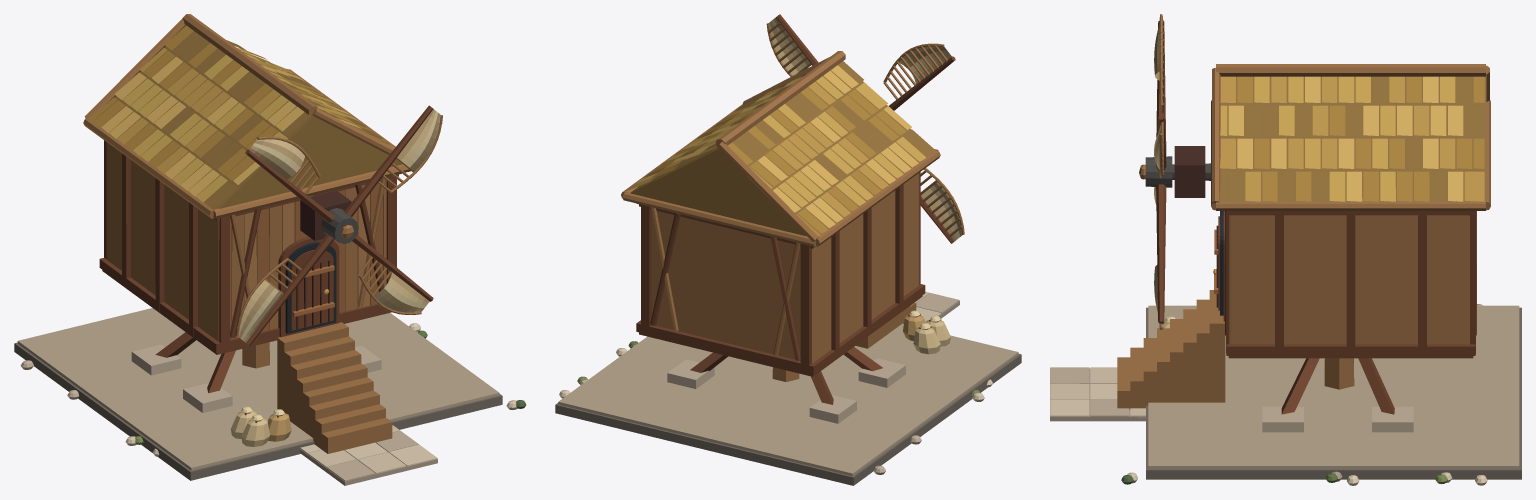
The model's file is windmill-nivel-1.glb.
The picture shows the model from 3 angles, left to right: view 1: azimuth 30°, elevation 25°; view 2: azimuth 150°, elevation 25°; view 3: azimuth 270°, elevation 25°; orthographic projection. The views are drawn at different scales.
Visible parts, largest first — view 1: Moinho de vento 01 #b4a38a, Moinho de vento 01 #9f7145, Moinho de vento 01 #70432c, Moinho de vento 01 #92703a, Moinho de vento 01 #a57547, Moinho de vento 01 #ab843d, Moinho de vento 01 #d4ae5e, Moinho de vento 01 #c8a452, Moinho de vento 01 #746c62, Moinho de vento 01 #c1af99, Pás do moinho #70432c, Moinho de vento 01 #bc9549 (+14 smaller); view 2: Moinho de vento 01 #b4a38a, Moinho de vento 01 #a57547, Moinho de vento 01 #92703a, Moinho de vento 01 #70432c, Moinho de vento 01 #9f7145, Moinho de vento 01 #746c62, Moinho de vento 01 #ab843d, Moinho de vento 01 #c8a452, Moinho de vento 01 #d4ae5e, Moinho de vento 01 #c1af99, Moinho de vento 01 #bc9549, Pás do moinho #9f7145 (+5 smaller); view 3: Moinho de vento 01 #b4a38a, Moinho de vento 01 #a57547, Moinho de vento 01 #9f7145, Moinho de vento 01 #92703a, Moinho de vento 01 #70432c, Moinho de vento 01 #ab843d, Moinho de vento 01 #d4ae5e, Moinho de vento 01 #bc9549, Moinho de vento 01 #c8a452, Moinho de vento 01 #746c62, Moinho de vento 01 #c1af99, Pás do moinho #70432c (+6 smaller).
Part boxes in pixels (x1,y1,x2,y2): Moinho de vento 01 #b4a38a: (17,308,499,470); Moinho de vento 01 #9f7145: (83,14,410,453); Moinho de vento 01 #70432c: (99,140,401,422); Moinho de vento 01 #92703a: (94,31,402,209); Moinho de vento 01 #a57547: (106,142,218,340); Moinho de vento 01 #ab843d: (89,25,391,180); Moinho de vento 01 #d4ae5e: (101,47,362,196); Moinho de vento 01 #c8a452: (123,54,359,202); Moinho de vento 01 #746c62: (14,342,502,480); Moinho de vento 01 #c1af99: (20,344,418,481); Pás do moinho #70432c: (245,105,433,345); Moinho de vento 01 #bc9549: (117,48,394,173); Moinho de vento 01 #b4a38a: (558,323,1018,476); Moinho de vento 01 #a57547: (652,173,918,363); Moinho de vento 01 #92703a: (630,61,935,236); Moinho de vento 01 #70432c: (636,172,941,404); Moinho de vento 01 #9f7145: (621,51,940,381); Moinho de vento 01 #746c62: (555,354,1021,485); Moinho de vento 01 #ab843d: (650,87,906,236); Moinho de vento 01 #c8a452: (666,76,926,207); Moinho de vento 01 #d4ae5e: (636,65,918,227); Moinho de vento 01 #c1af99: (667,293,959,474); Moinho de vento 01 #bc9549: (626,82,888,216); Pás do moinho #9f7145: (766,22,964,236); Moinho de vento 01 #b4a38a: (1148,305,1519,469); Moinho de vento 01 #a57547: (1231,215,1469,344); Moinho de vento 01 #9f7145: (1117,64,1490,409); Moinho de vento 01 #92703a: (1219,76,1485,201); Moinho de vento 01 #70432c: (1218,211,1476,414); Moinho de vento 01 #ab843d: (1237,76,1484,201); Moinho de vento 01 #d4ae5e: (1228,76,1463,201); Moinho de vento 01 #bc9549: (1220,76,1484,201); Moinho de vento 01 #c8a452: (1220,76,1455,201); Moinho de vento 01 #746c62: (1146,307,1521,479); Moinho de vento 01 #c1af99: (1050,304,1482,432); Pás do moinho #70432c: (1156,21,1166,323).
Bounding box in the file's own units: 6.12 × 5.52 × 6.89.
